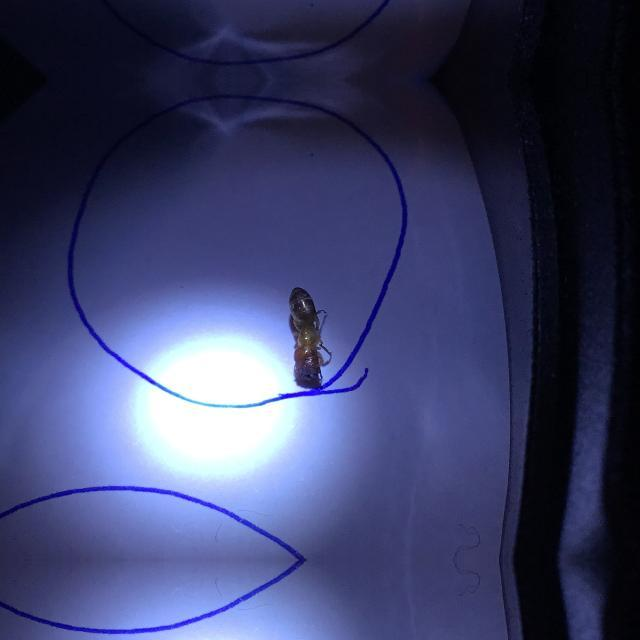Colobopsis: (254, 278, 370, 412)
